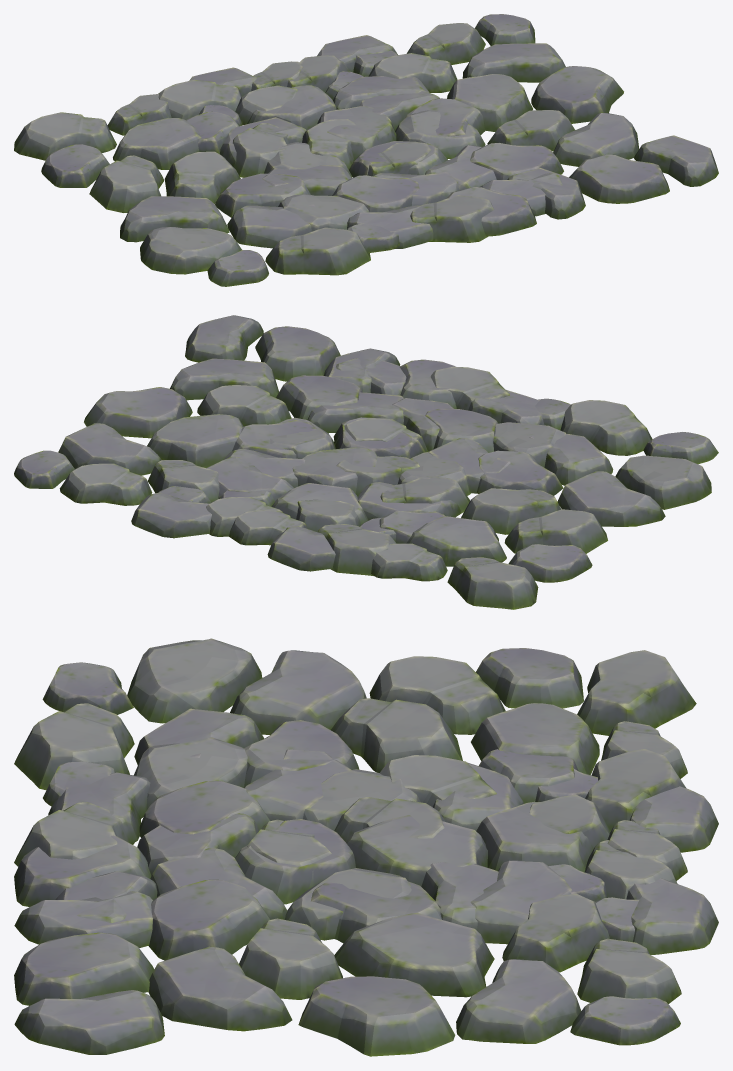
Rendered from bridge.glb.
The picture shows the model from 3 angles, top to bottom: view 1: azimuth 30°, elevation 25°; view 2: azimuth 150°, elevation 25°; view 3: azimuth 270°, elevation 25°; orthographic projection. The views are drawn at different scales.
Parts seen in each view (by area): view 1: RockPath_Round_Wide, RockPath_Round_Wide.001; view 2: RockPath_Round_Wide, RockPath_Round_Wide.001; view 3: RockPath_Round_Wide.001, RockPath_Round_Wide.
Part boxes in pixels (x1,y1,x2,y2): RockPath_Round_Wide: (14,50,585,286); RockPath_Round_Wide.001: (158,14,718,253); RockPath_Round_Wide: (158,348,718,609); RockPath_Round_Wide.001: (14,315,570,576); RockPath_Round_Wide.001: (14,737,718,1056); RockPath_Round_Wide: (14,638,718,947).
Bounding box in the file's own units: 5.52 × 0.22 × 4.12.
2 materials, 2 textured.
